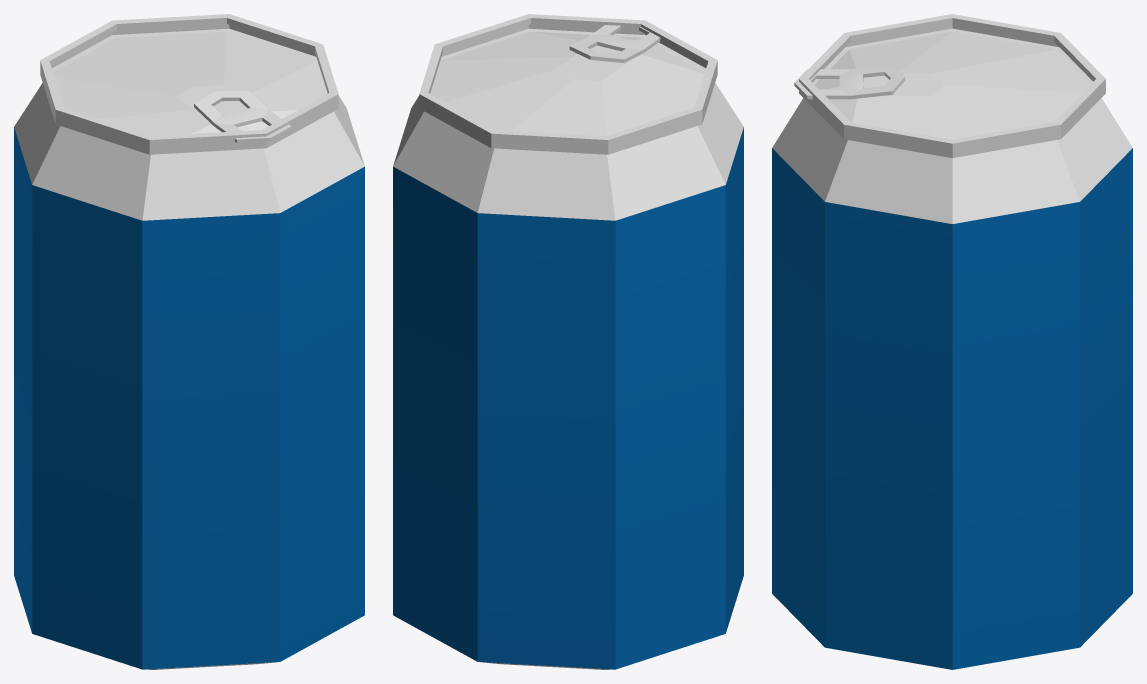
The model's file is BlueCan.fbx.
The picture shows the model from 3 angles, left to right: view 1: azimuth 30°, elevation 25°; view 2: azimuth 150°, elevation 25°; view 3: azimuth 270°, elevation 25°; orthographic projection.
Visible parts, largest first — view 1: Cola_Can1, Cola_Can; view 2: Cola_Can1, Cola_Can; view 3: Cola_Can1, Cola_Can.
Boxes of the visible parts, x1,y1,x2,y2 form: Cola_Can1: (14,14,364,669); Cola_Can: (194,90,291,143); Cola_Can1: (393,14,743,669); Cola_Can: (569,25,660,62); Cola_Can1: (772,14,1132,669); Cola_Can: (794,65,905,99).
Bounding box in the file's own units: 1.02 × 1.67 × 1.02.
